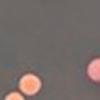pink: (15, 70, 44, 97), (83, 53, 100, 87), (3, 90, 27, 100)
